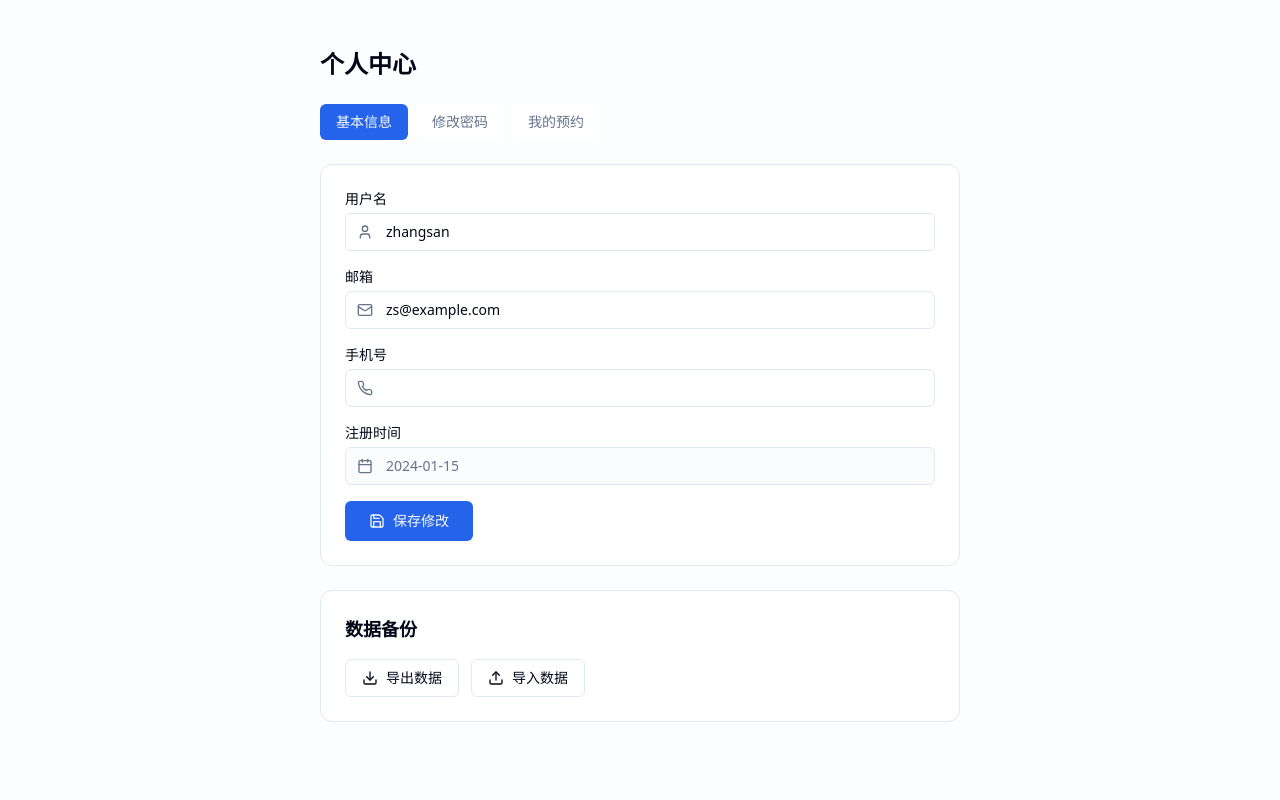
Test: Profile Page › shows toast on save info
The image size is (1280, 800).
Step 1. Click the button "保存修改" → (409, 521), box [345,501,473,541]
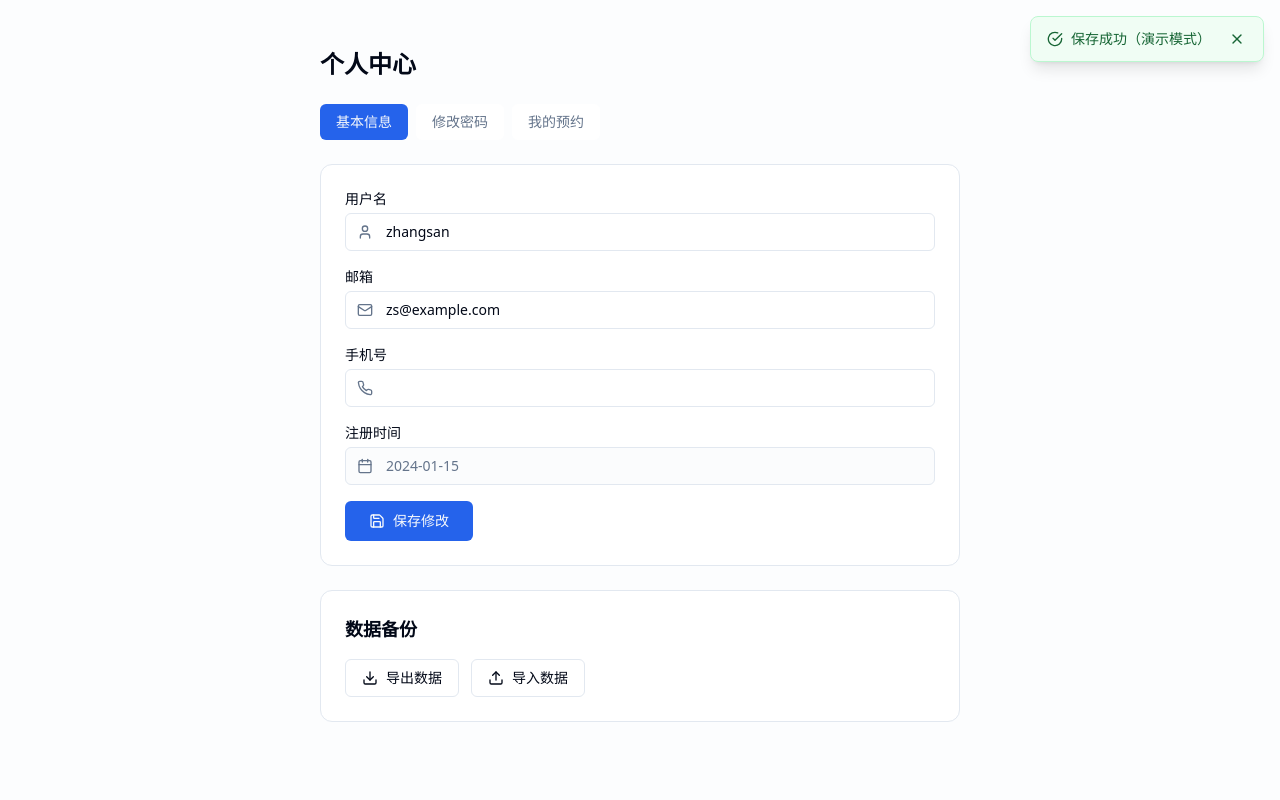
Expected: the text "保存成功（演示模式）" is shown, [1071,29,1211,49]
